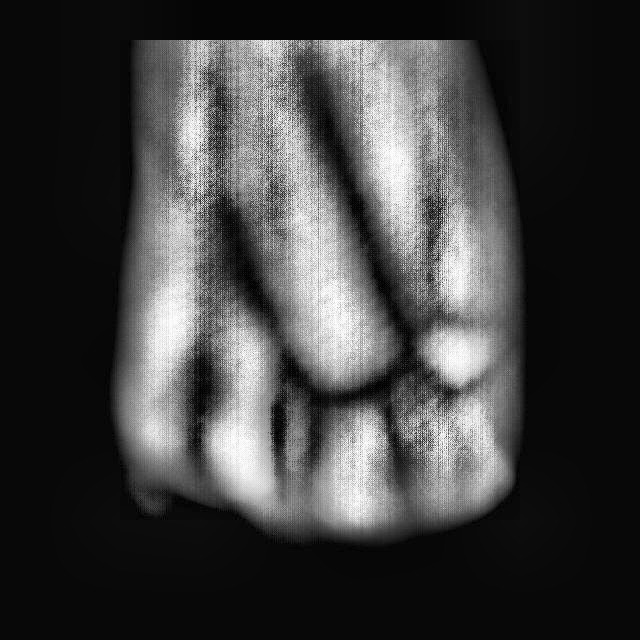Vein: (300, 87, 408, 319)
